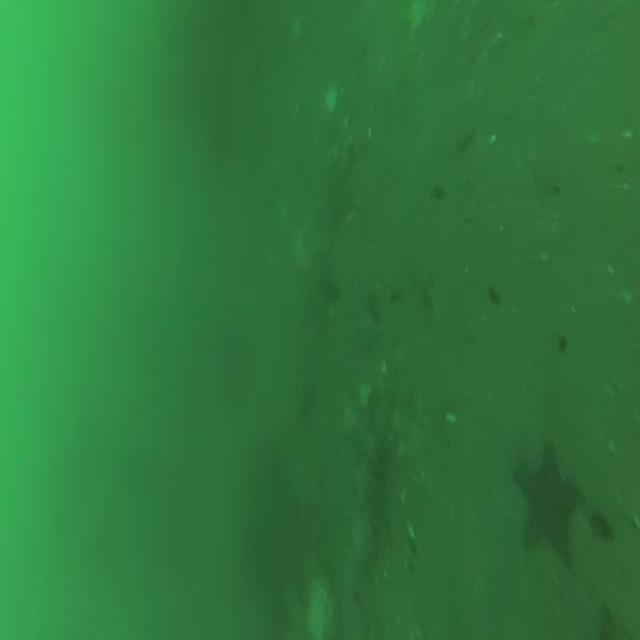holothurian: (354, 412, 388, 538)
starfish: (515, 438, 581, 564)
